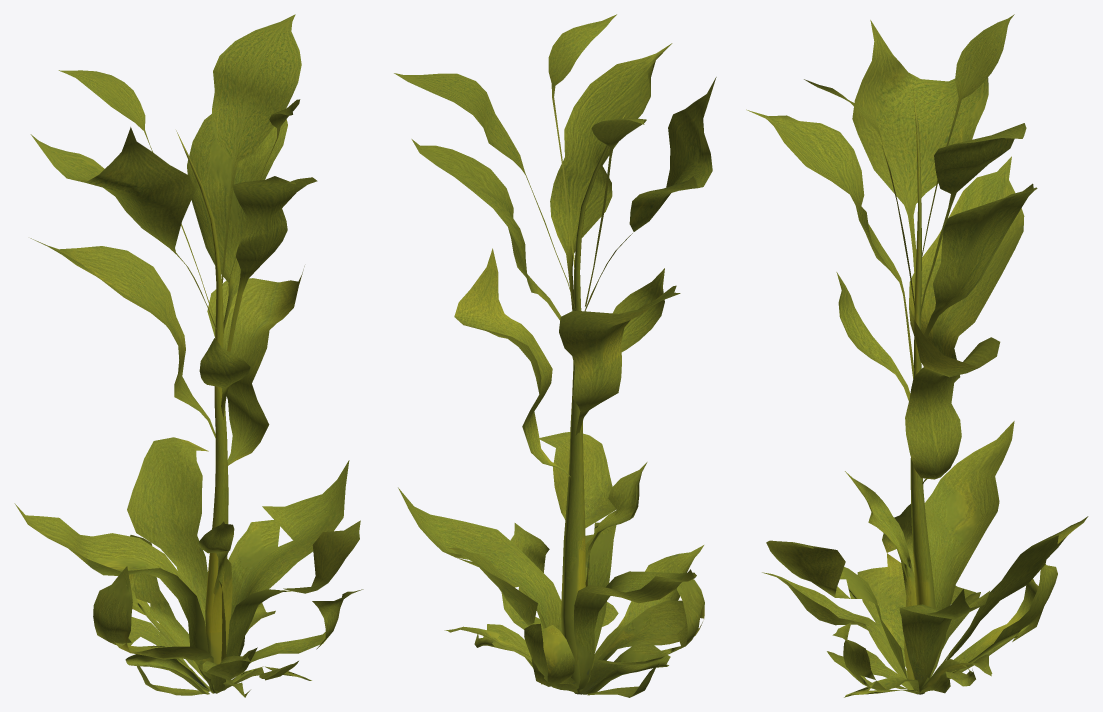
The model's file is kelp-giant.glb.
The picture shows the model from 3 angles, left to right: view 1: azimuth 30°, elevation 25°; view 2: azimuth 150°, elevation 25°; view 3: azimuth 270°, elevation 25°; orthographic projection. The views are drawn at different scales.
Size of the model in its own units: 0.5292 by 1 by 0.4994.
1 material, 1 textured.
